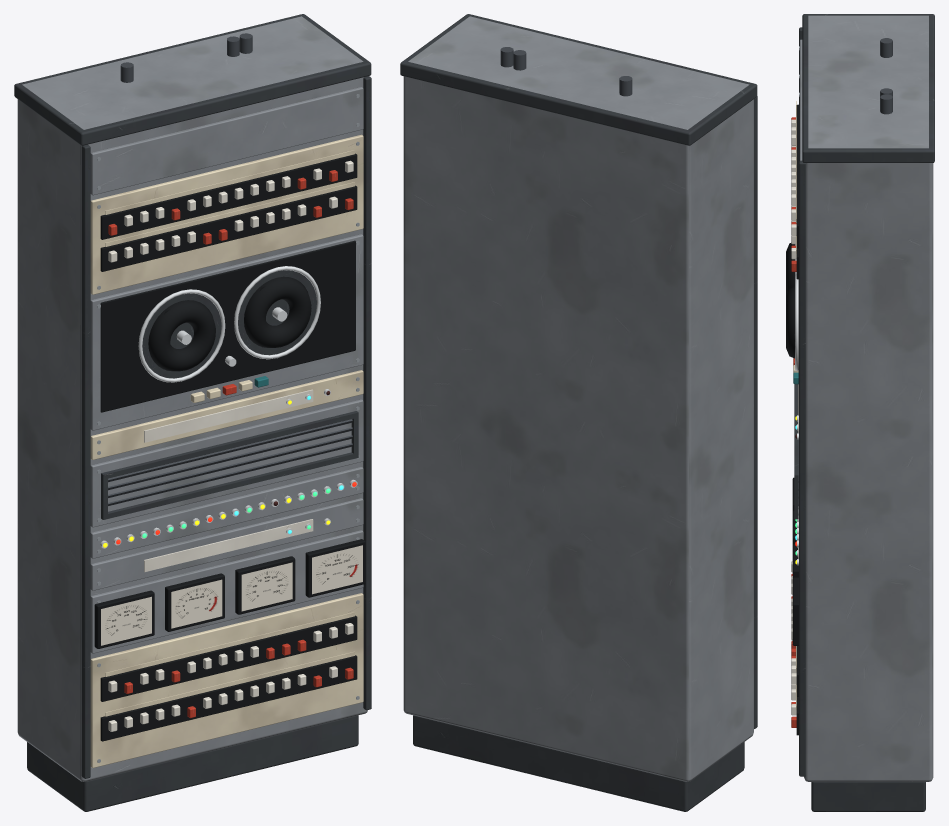
The model's file is Rack_90_1.glb.
3 renders of one model, left to right at view 1: azimuth 30°, elevation 25°; view 2: azimuth 150°, elevation 25°; view 3: azimuth 270°, elevation 25°, orthographic. The views are drawn at different scales.
Parts seen in each view (by area): view 1: Rack_90_1_Body; view 2: Rack_90_1_Body; view 3: Rack_90_1_Body.
Part boxes in pixels (bbox=[...]): Rack_90_1_Body: bbox=[14, 14, 371, 811]; Rack_90_1_Body: bbox=[400, 14, 757, 811]; Rack_90_1_Body: bbox=[786, 14, 934, 811].
Bounding box in the file's own units: 0.91 × 2.1 × 0.4155.
19 materials, 9 textured.
